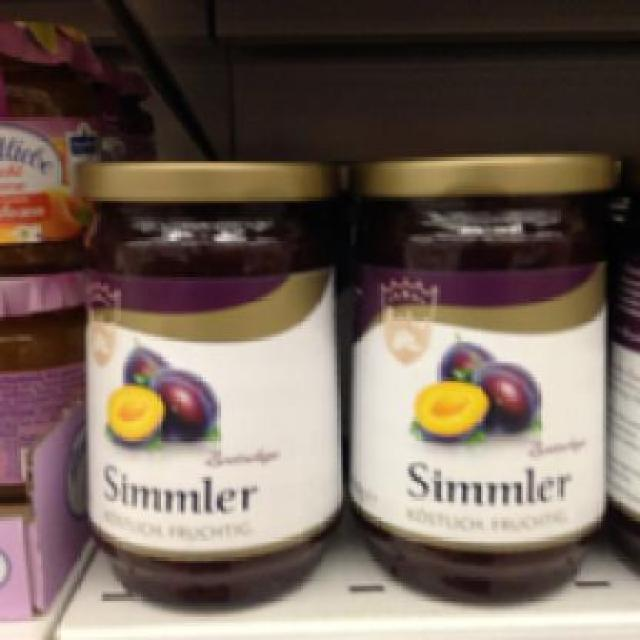Jam: (70, 153, 347, 610), (346, 147, 614, 604)
